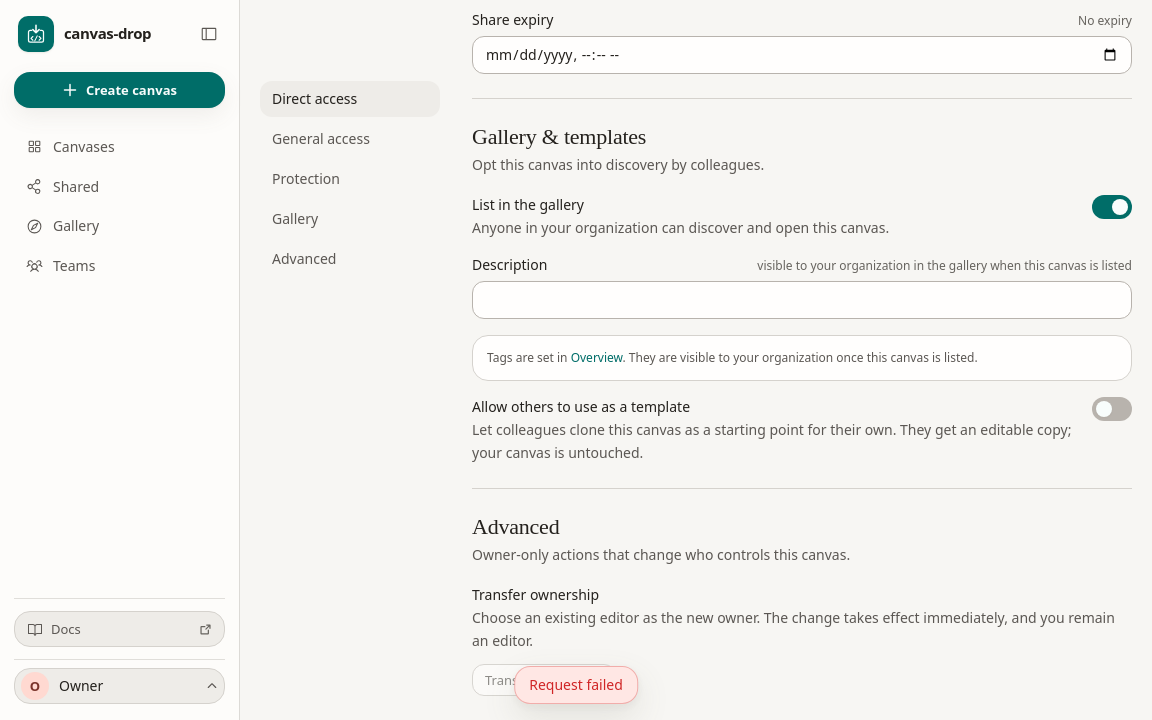
Scenario: share route › surfaces a gallery-toggle server rejection as an error toast
This screenshot has width=1152, height=720.
(page scrolled)
What coordinates should you click on to do the following:
click the switch named "allow others to use as a template" in the row of "Allow others to use as a template"
I would click on:
 (1112, 409)
Its box is [1092,397,1132,421].
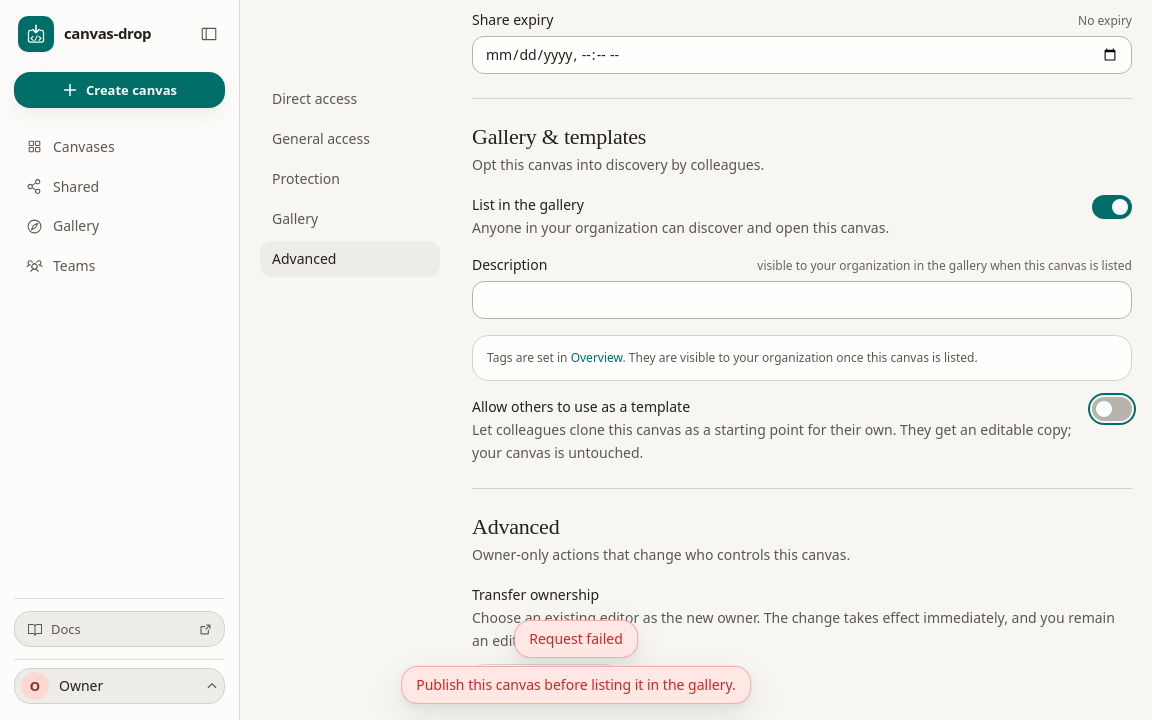
Result: the text "Publish this canvas before listing it in the gallery." is shown at [401,666,751,704]
